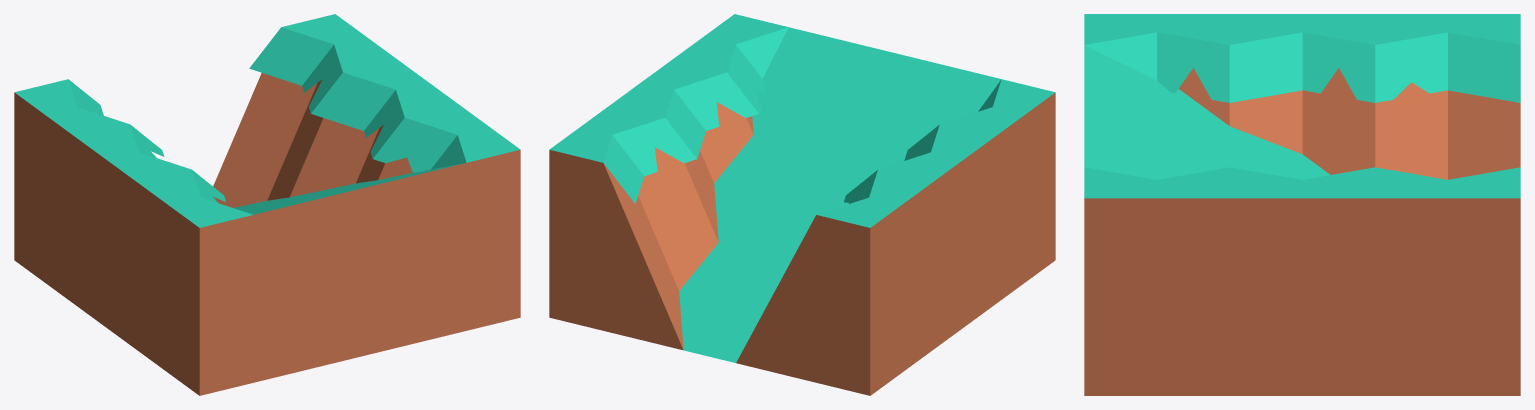
File: cliff_blockSlopeHalfWalls_rock.glb
3 views of the same model, side by side, from view 1: azimuth 30°, elevation 25°; view 2: azimuth 150°, elevation 25°; view 3: azimuth 270°, elevation 25° (orthographic). The views are drawn at different scales.
Parts seen in each view (by area): view 1: cliff_blockSlopeHalfWalls_rock; view 2: cliff_blockSlopeHalfWalls_rock; view 3: cliff_blockSlopeHalfWalls_rock.
Boxes of the visible parts, x1,y1,x2,y2 form: cliff_blockSlopeHalfWalls_rock: [14, 14, 520, 395]; cliff_blockSlopeHalfWalls_rock: [549, 14, 1055, 395]; cliff_blockSlopeHalfWalls_rock: [1084, 14, 1520, 395].
Size of the model in its own units: 1 by 0.5 by 1.
